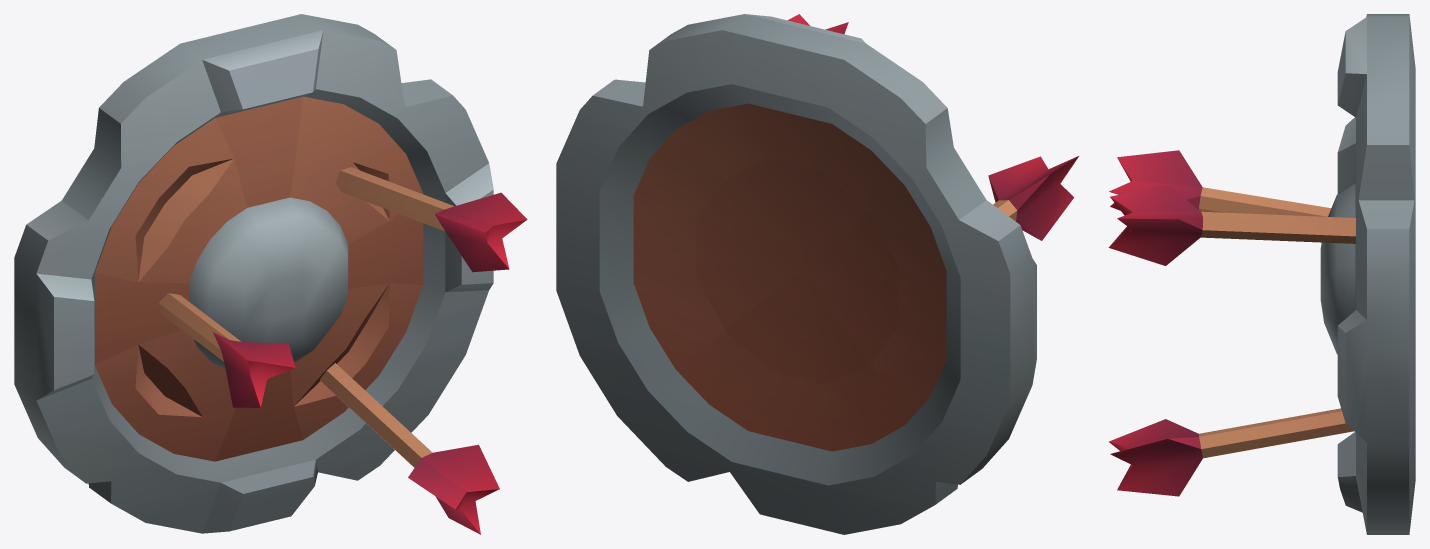
File: skeleton_shield_small_b.glb
3 renders of one model, left to right at view 1: azimuth 30°, elevation 25°; view 2: azimuth 150°, elevation 25°; view 3: azimuth 270°, elevation 25°, orthographic. The views are drawn at different scales.
Parts seen in each view (by area): view 1: Skeleton_Shield_Small_B; view 2: Skeleton_Shield_Small_B; view 3: Skeleton_Shield_Small_B.
Part boxes in pixels (x1,y1,x2,y2): Skeleton_Shield_Small_B: (14,14,527,534); Skeleton_Shield_Small_B: (556,14,1078,534); Skeleton_Shield_Small_B: (1108,14,1415,534).
Bounding box in the file's own units: 0.8322 × 0.8322 × 0.5058.
Materials: 1 (1 with a texture image).
